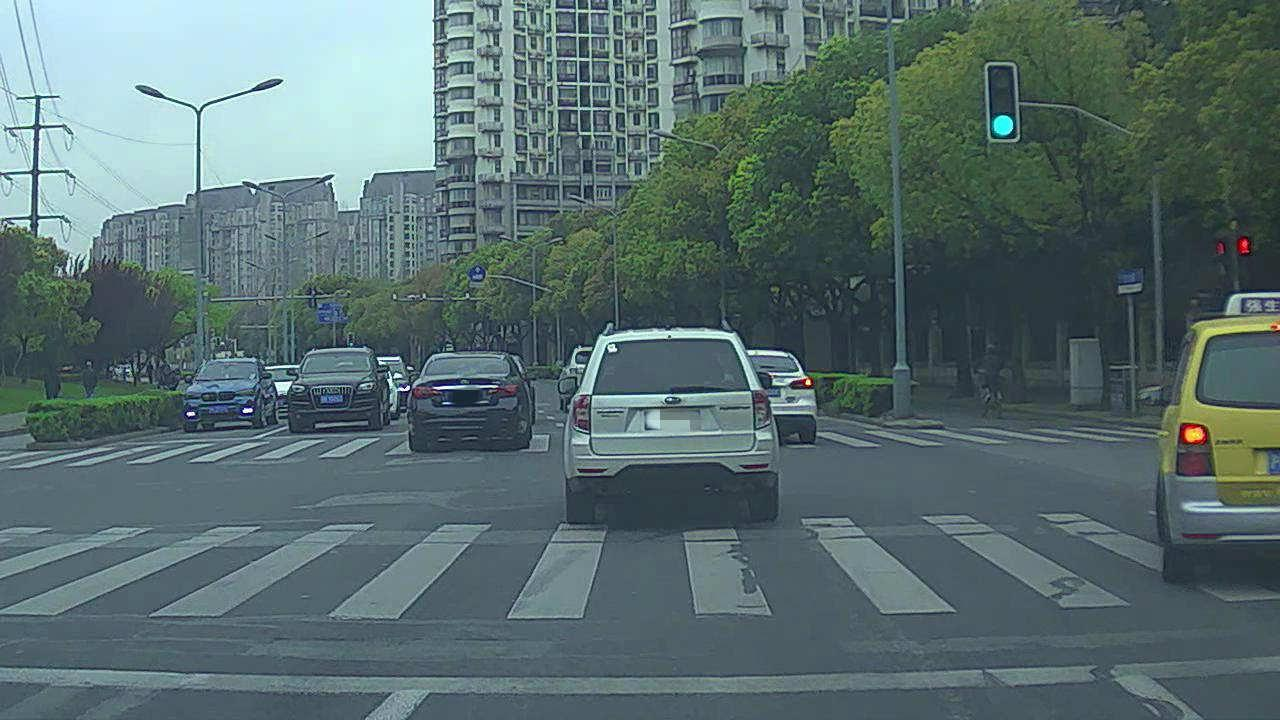traffic_light: (988, 62, 1025, 147)
